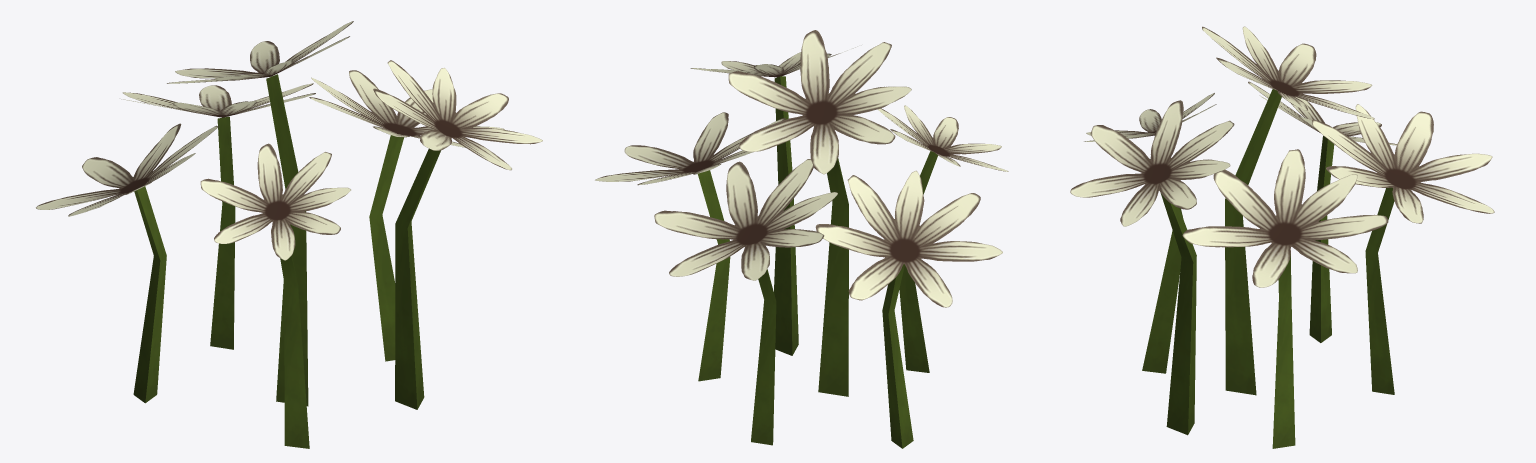
Rendered from flower8.fbx.
3 renders of one model, left to right at view 1: azimuth 30°, elevation 25°; view 2: azimuth 150°, elevation 25°; view 3: azimuth 270°, elevation 25°, orthographic. The views are drawn at different scales.
Visible parts, largest first — view 1: polySurface2269; view 2: polySurface2269; view 3: polySurface2269.
Part boxes in pixels (x1,y1,x2,y2): polySurface2269: (36, 21, 542, 448); polySurface2269: (595, 30, 1008, 448); polySurface2269: (1070, 26, 1494, 448).
Bounding box in the file's own units: 0.8219 × 0.6465 × 0.7654.
